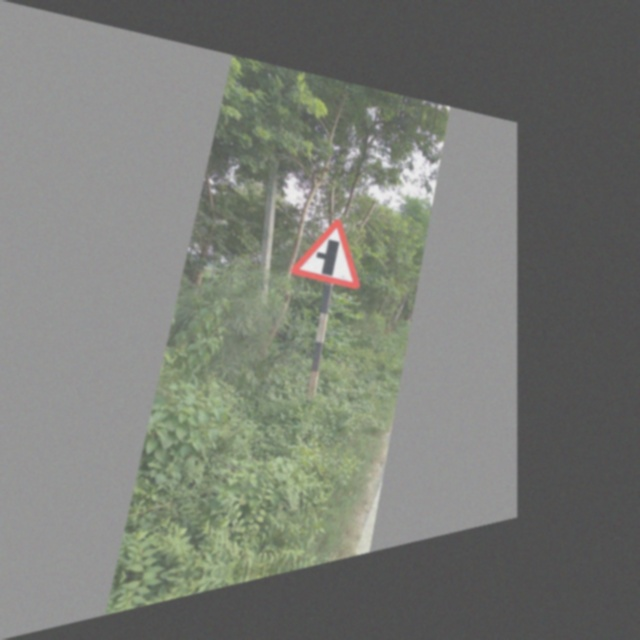Side_Road_Left: (286, 207, 366, 290)
